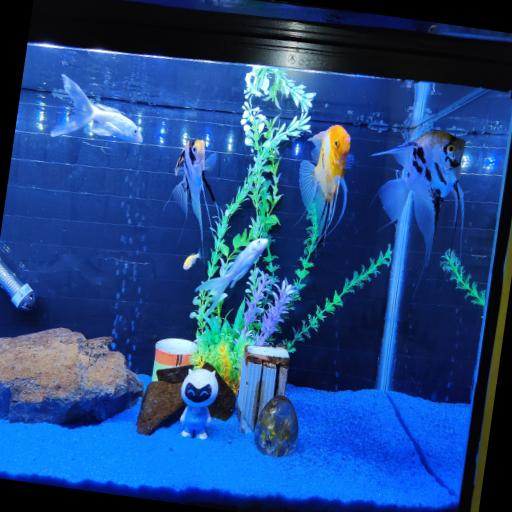Fish: (372, 132, 464, 266), (298, 125, 352, 242), (50, 75, 141, 143), (195, 238, 267, 316), (171, 139, 217, 243), (183, 251, 199, 269)
